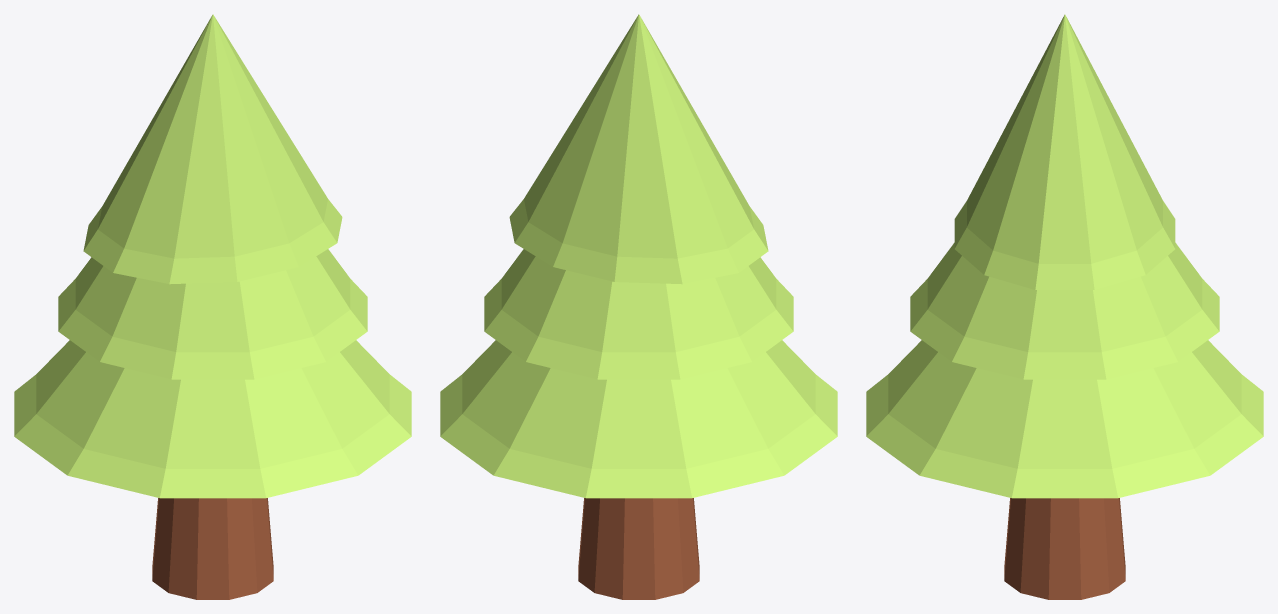
The model's file is pinetree2.glb.
3 renders of one model, left to right at view 1: azimuth 30°, elevation 25°; view 2: azimuth 150°, elevation 25°; view 3: azimuth 270°, elevation 25°, orthographic.
Visible parts, largest first — view 1: cone; view 2: cone; view 3: cone.
Boxes of the visible parts, x1,y1,x2,y2 form: cone: (14,14,411,599); cone: (440,14,837,599); cone: (866,14,1263,599).
Size of the model in its own units: 1.12 by 1.75 by 1.12.
Materials: 1 (1 with a texture image).
